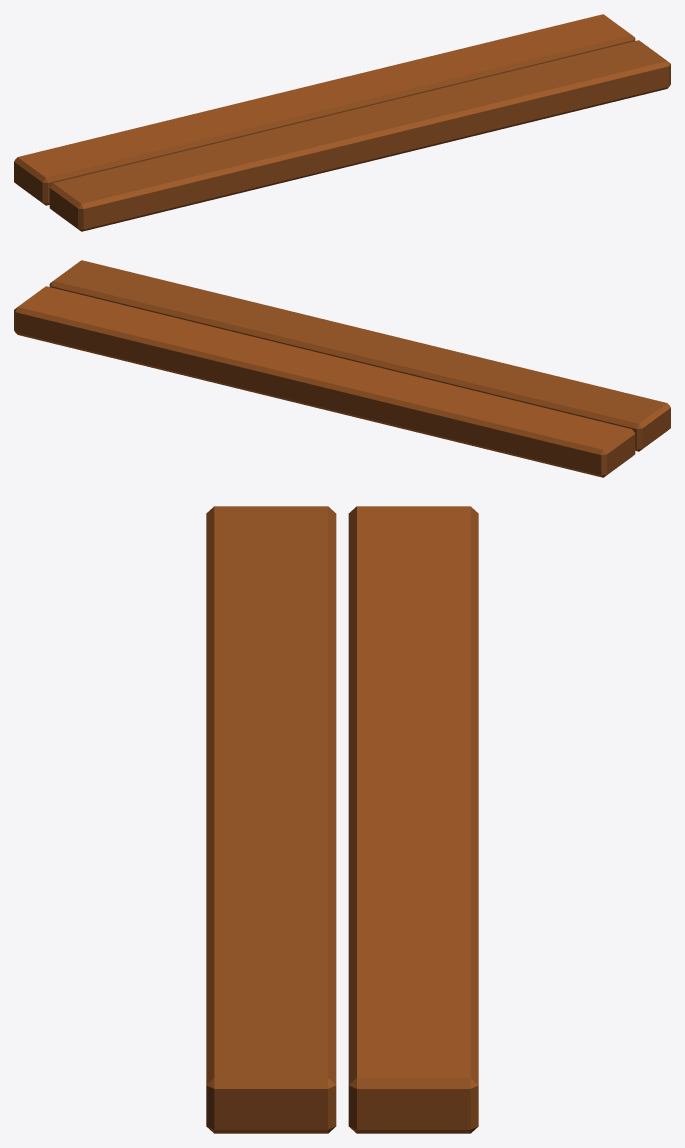
File: D11_Bench_Seat_2m.fbx
The picture shows the model from 3 angles, top to bottom: view 1: azimuth 30°, elevation 25°; view 2: azimuth 150°, elevation 25°; view 3: azimuth 270°, elevation 25°; orthographic projection. The views are drawn at different scales.
Visible parts, largest first — view 1: D11_Bench_Seat_2m; view 2: D11_Bench_Seat_2m; view 3: D11_Bench_Seat_2m.
Part boxes in pixels (x1=…): D11_Bench_Seat_2m: x1=14, y1=14, x2=670, y2=231; D11_Bench_Seat_2m: x1=14, y1=260, x2=670, y2=477; D11_Bench_Seat_2m: x1=206, y1=506, x2=478, y2=1133.
Bounding box in the file's own units: 2 × 0.09 × 0.398.
1 material, 1 textured.
